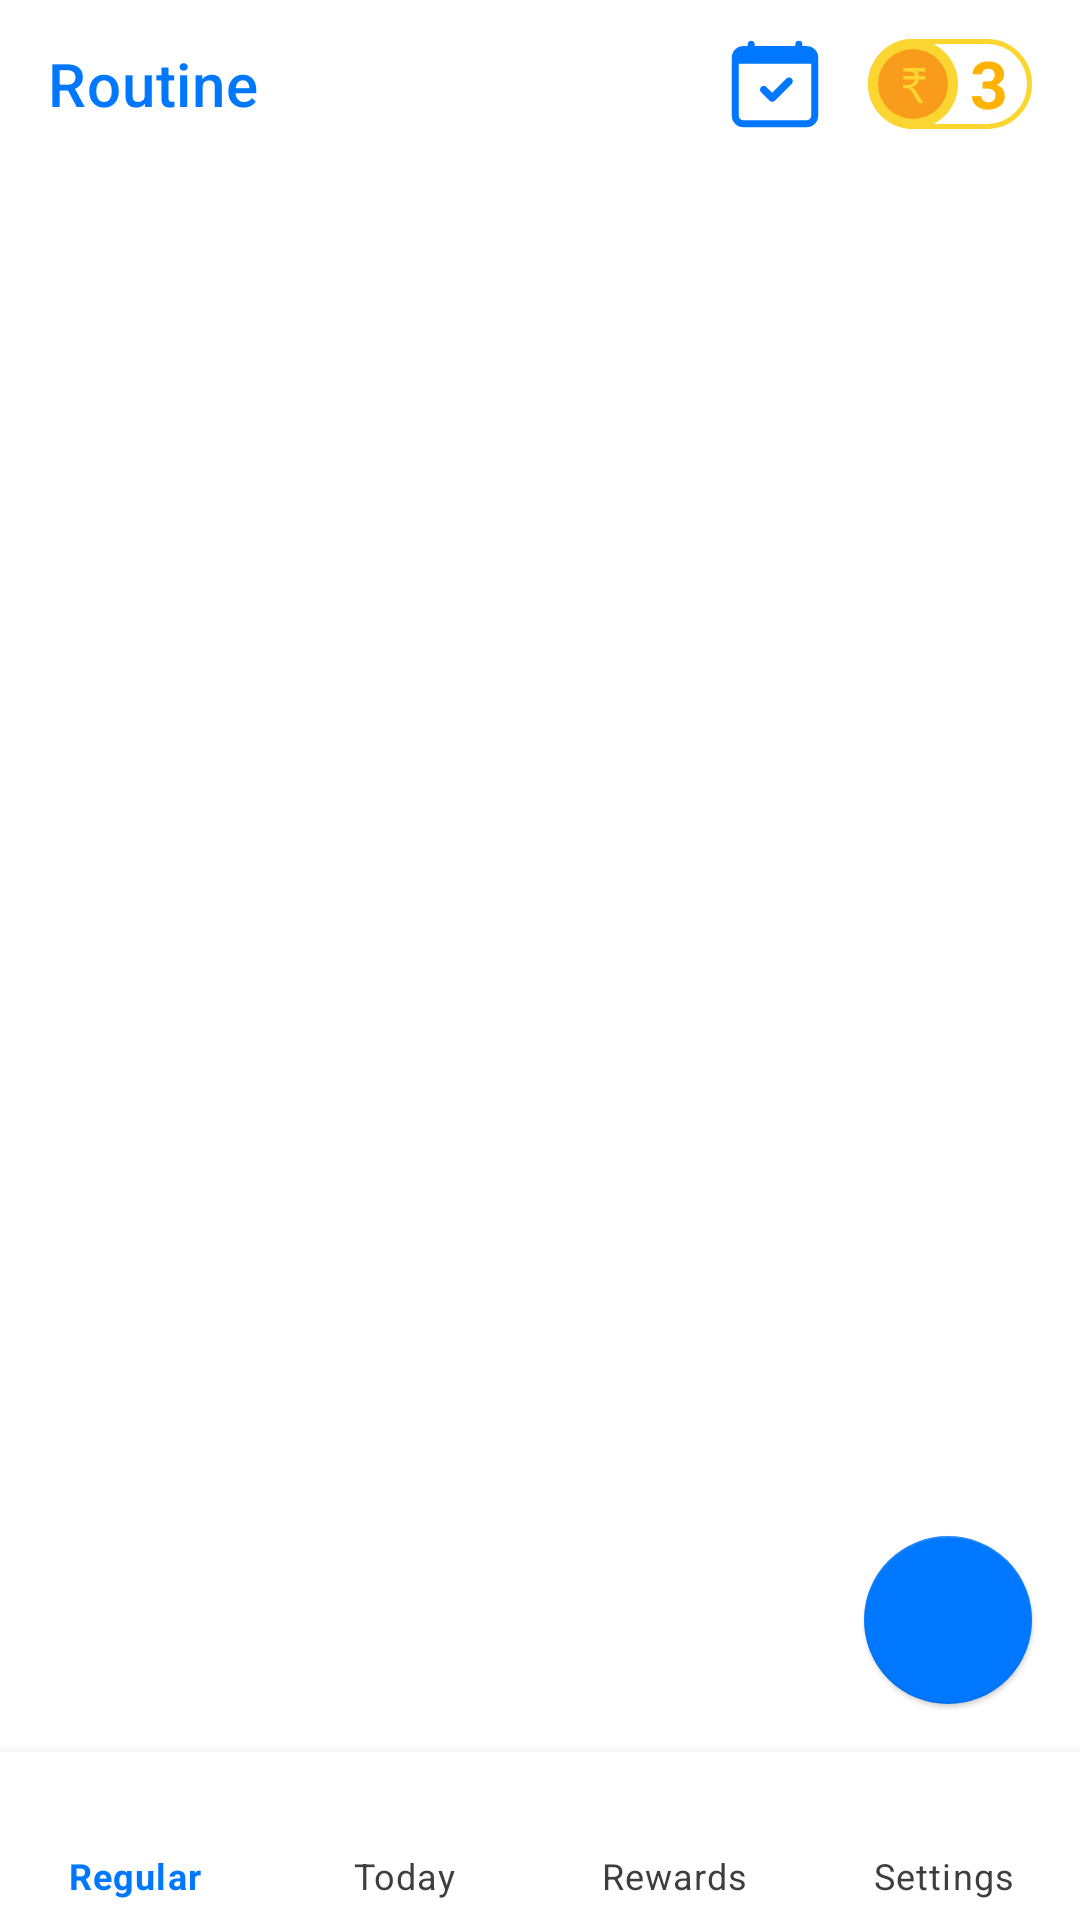

Icons on this 1080px x 1920px Android screen, each with the point to tap as (x,y):
calendar: (775,84)
coin: (913,84)
